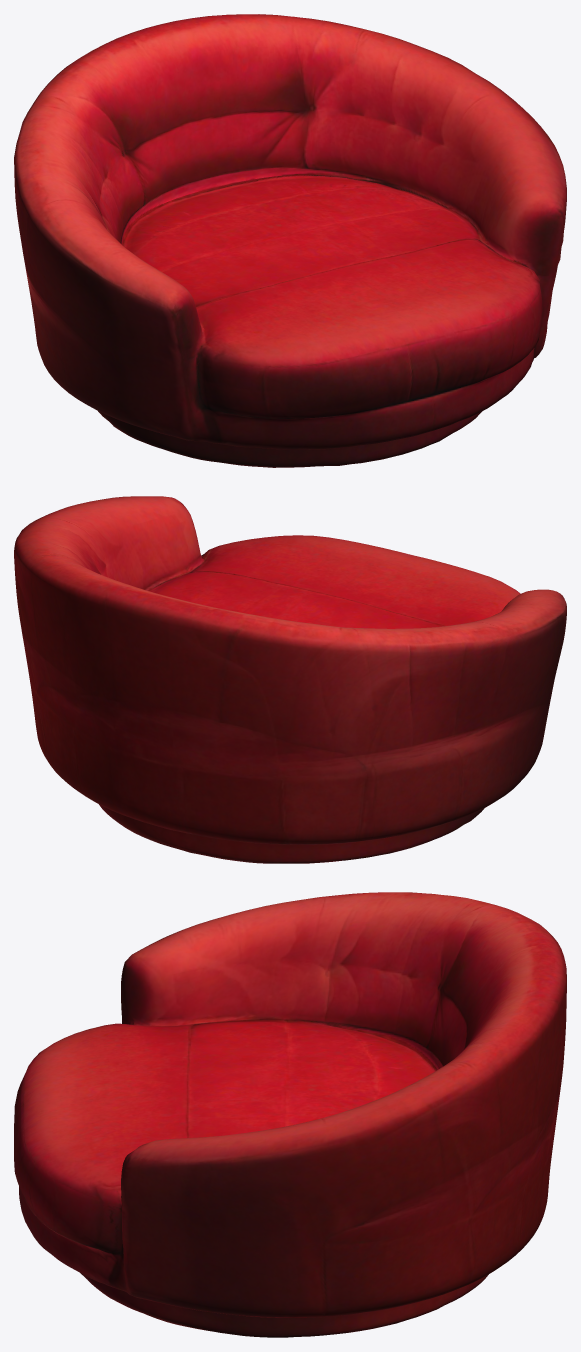
Rendered from furniture_4.glb.
3 renders of one model, top to bottom at view 1: azimuth 30°, elevation 25°; view 2: azimuth 150°, elevation 25°; view 3: azimuth 270°, elevation 25°, orthographic. The views are drawn at different scales.
Visible parts, largest first — view 1: Mesh_0; view 2: Mesh_0; view 3: Mesh_0.
Boxes of the visible parts, x1=… form: Mesh_0: x1=14, y1=14, x2=566, y2=467; Mesh_0: x1=14, y1=496, x2=566, y2=863; Mesh_0: x1=14, y1=892, x2=566, y2=1337.
Size of the model in its own units: 1 by 0.5252 by 0.9309.
Materials: 1 (1 with a texture image).
